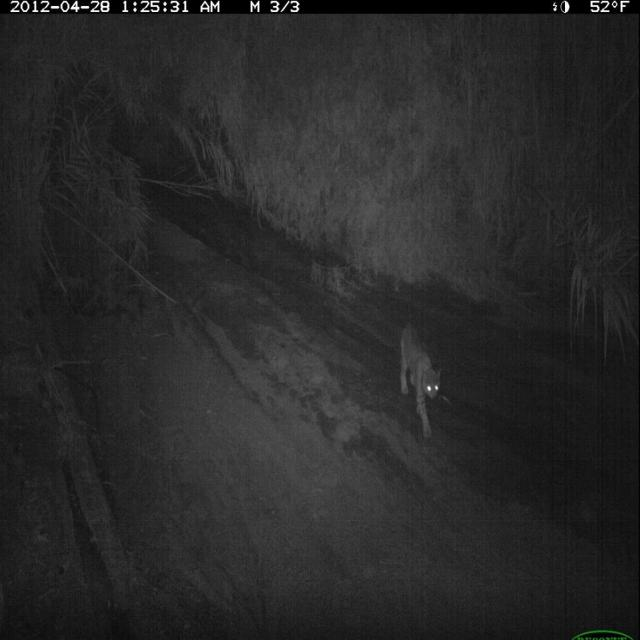bobcat: (397, 316, 446, 444)
